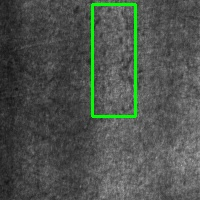crazing: (92, 5, 135, 116)
